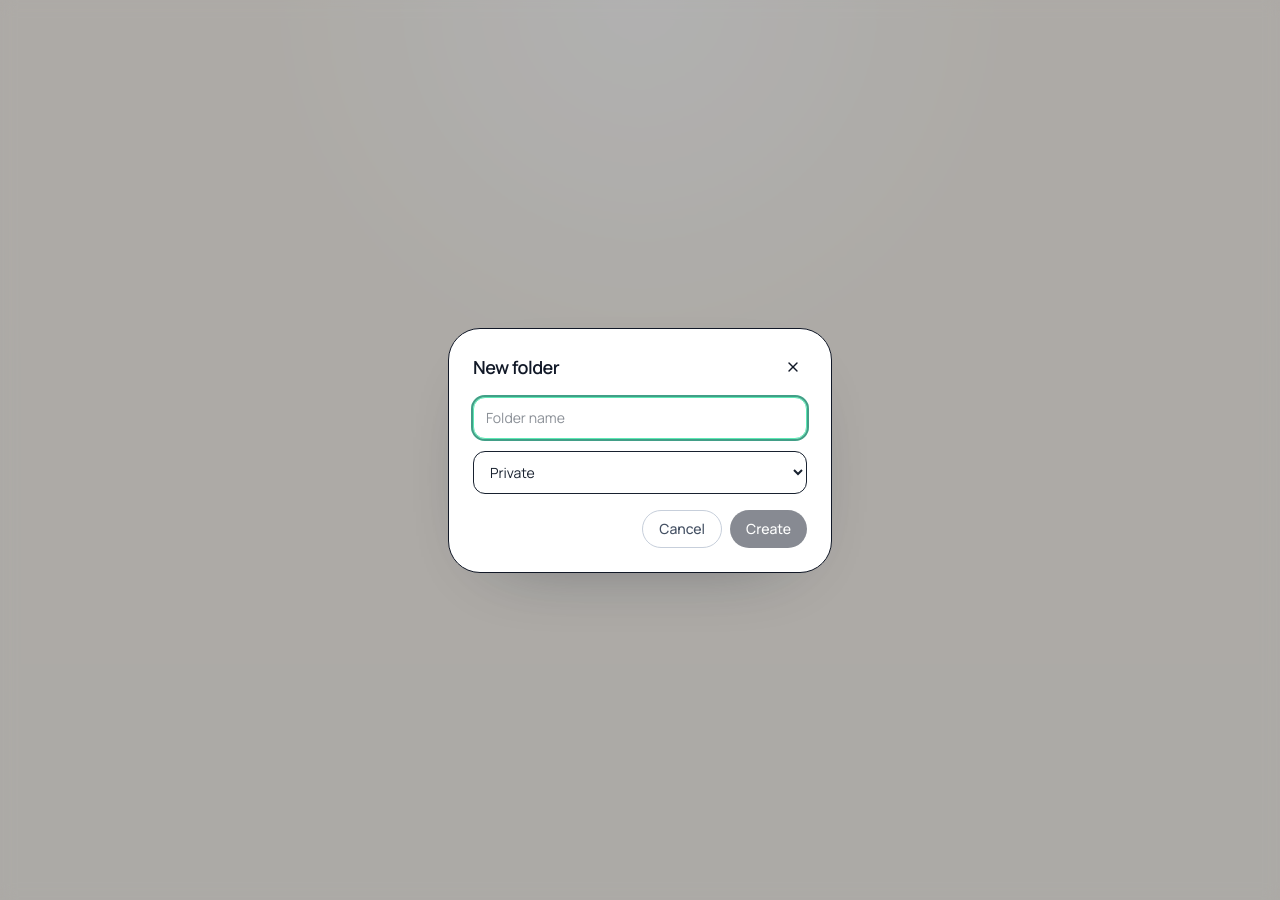
Test: NewFolderDialog › disables inputs while pending
The image size is (1280, 900).
Type "Pending Test" into the field with placeholder "Folder name".
click(640, 418); type("Pending Test")  # box [473,396,807,438]
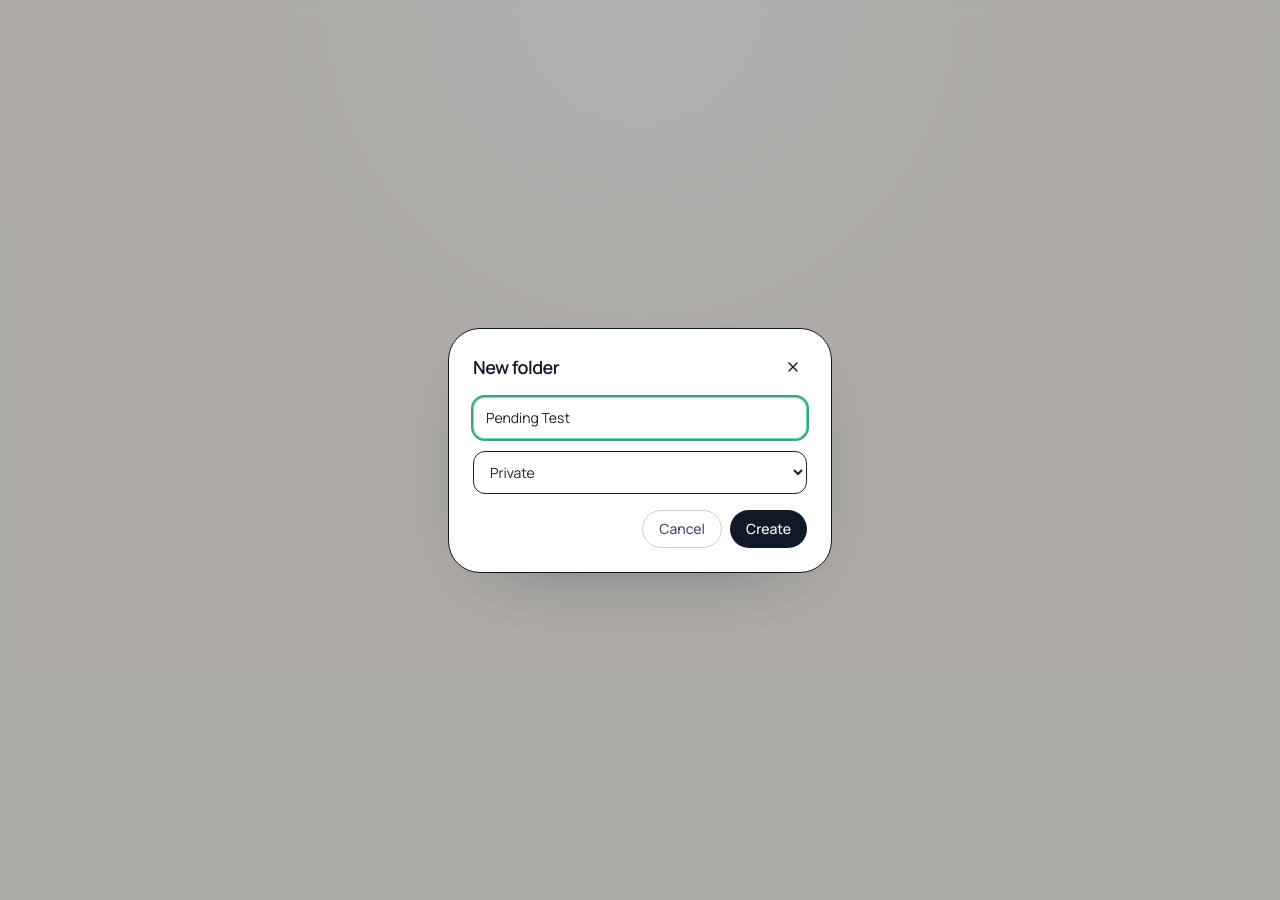
Click the button "Create".
click(769, 528)  # box [730,510,807,548]
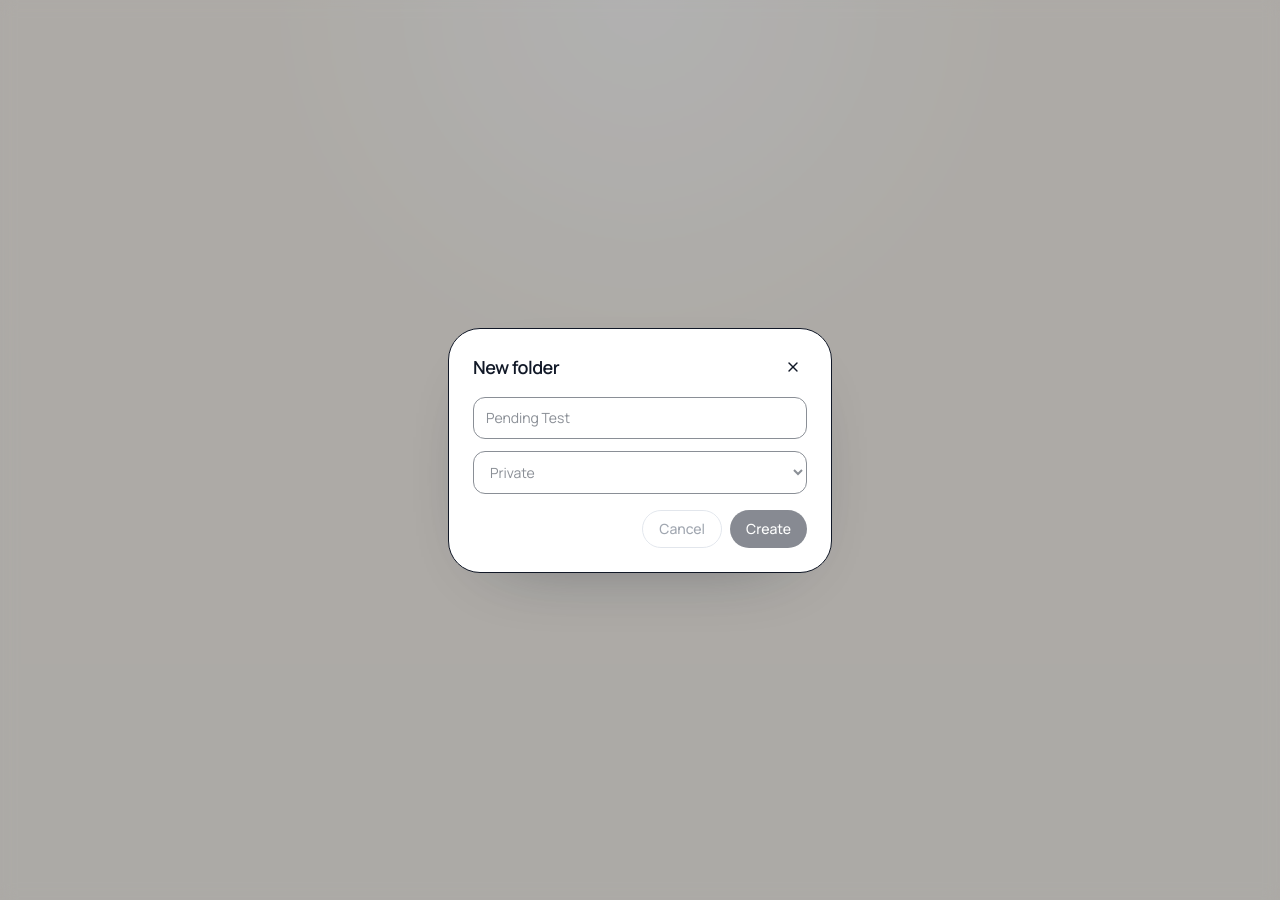
Now the field with placeholder "Folder name" is disabled, box [473,396,807,438]
